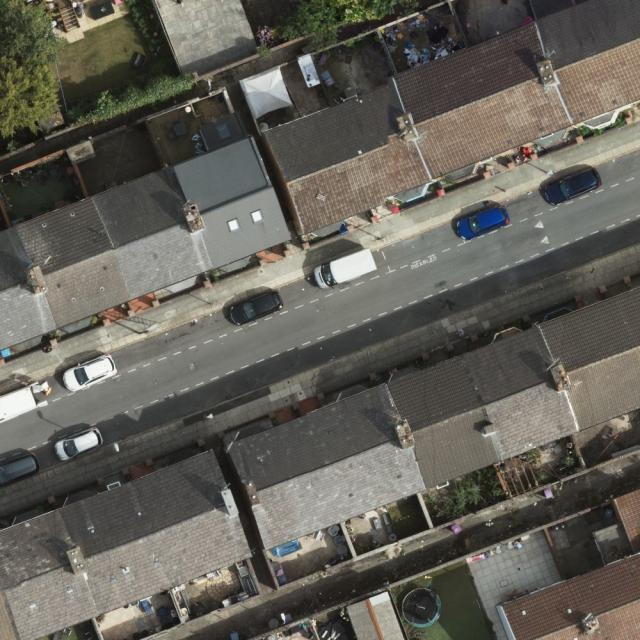roof: (225, 287, 640, 551), (263, 1, 640, 238), (1, 113, 290, 349), (0, 448, 253, 640), (504, 489, 640, 640), (348, 592, 405, 640)
skylight: (216, 124, 233, 141), (250, 209, 265, 226), (226, 218, 241, 233)
